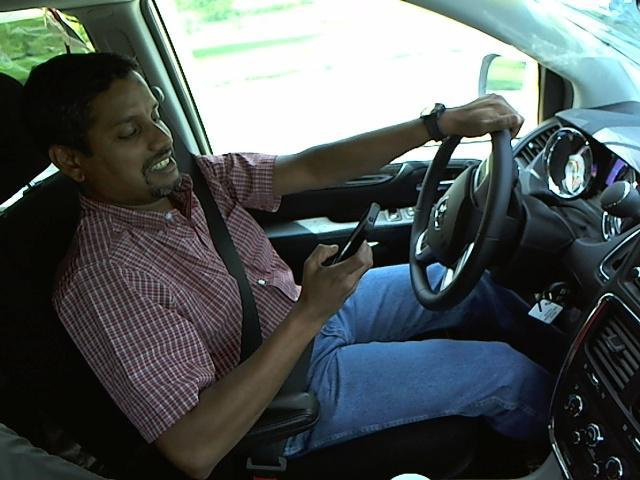PhoneUse: (322, 196, 389, 299)
